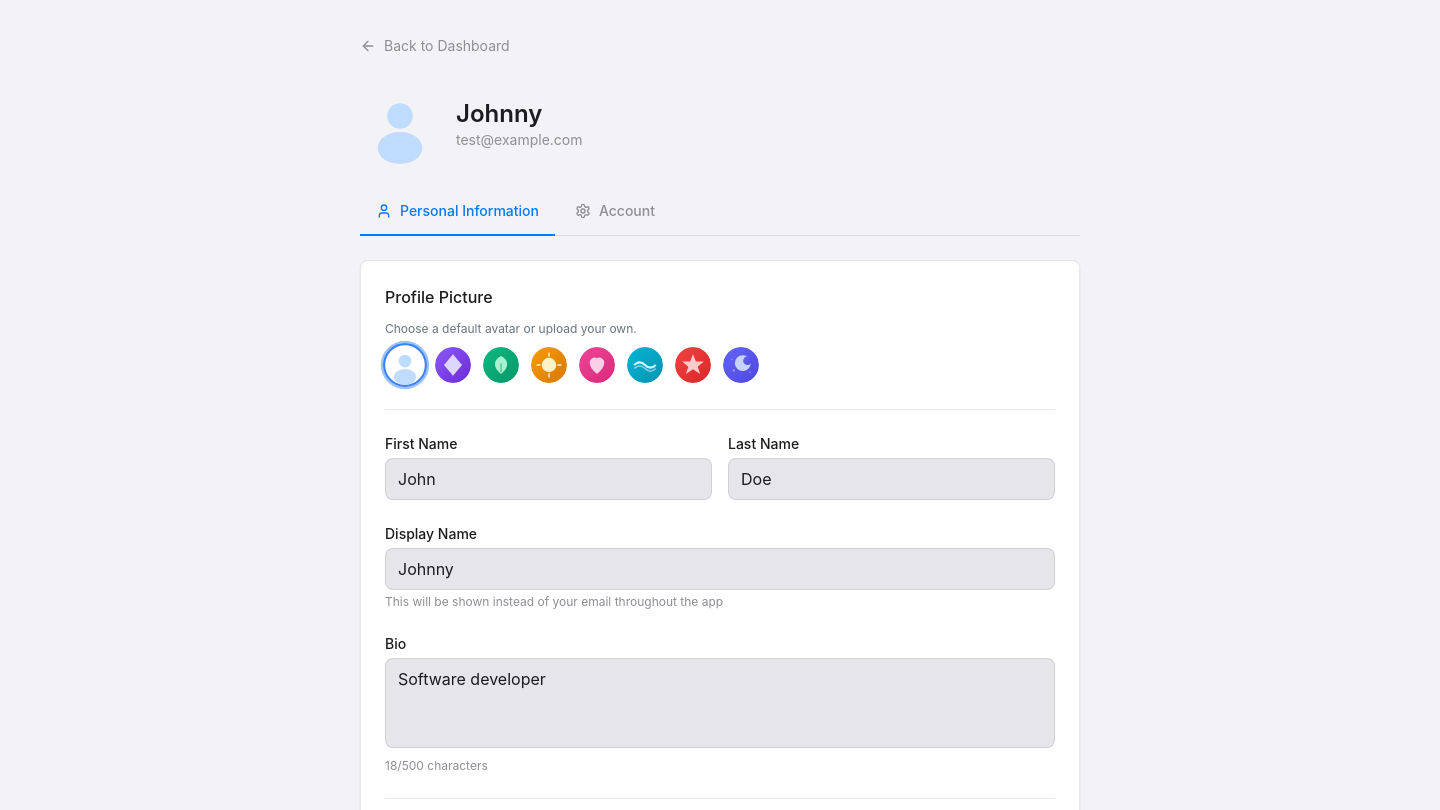
Test: ProfilePage › Change Email Modal › closes email modal when cancel is clicked
What coordinates should you click on to do the following:
click the button "Account"
I would click on:
 (615, 212)
Its box is [559,188,671,236].
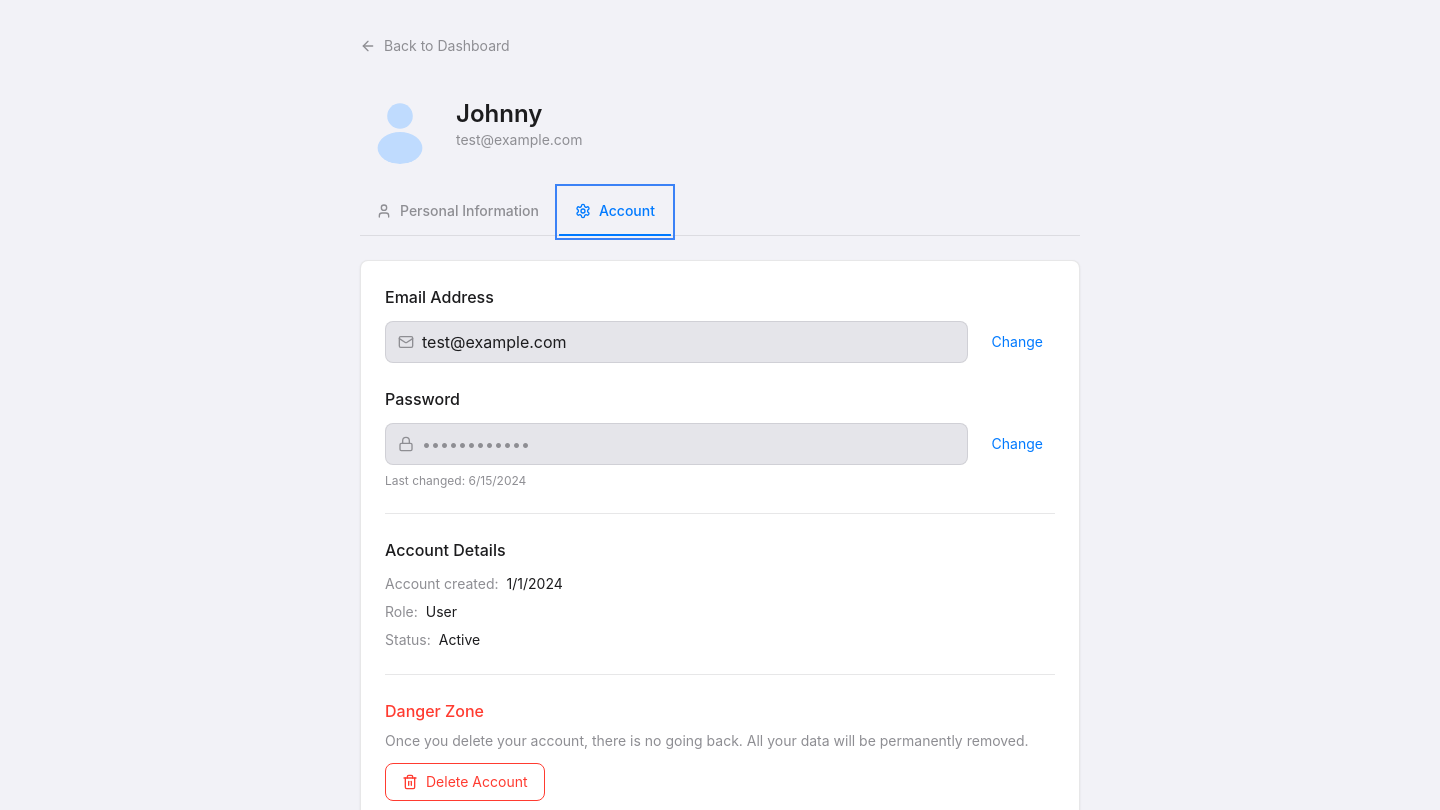
Check: the heading "Email Address" is shown, box [385,287,494,307]
What coordinates should you click on to do the following:
click the 1st button "Change"
I would click on:
 (1017, 342)
Its box is [980,324,1055,360].
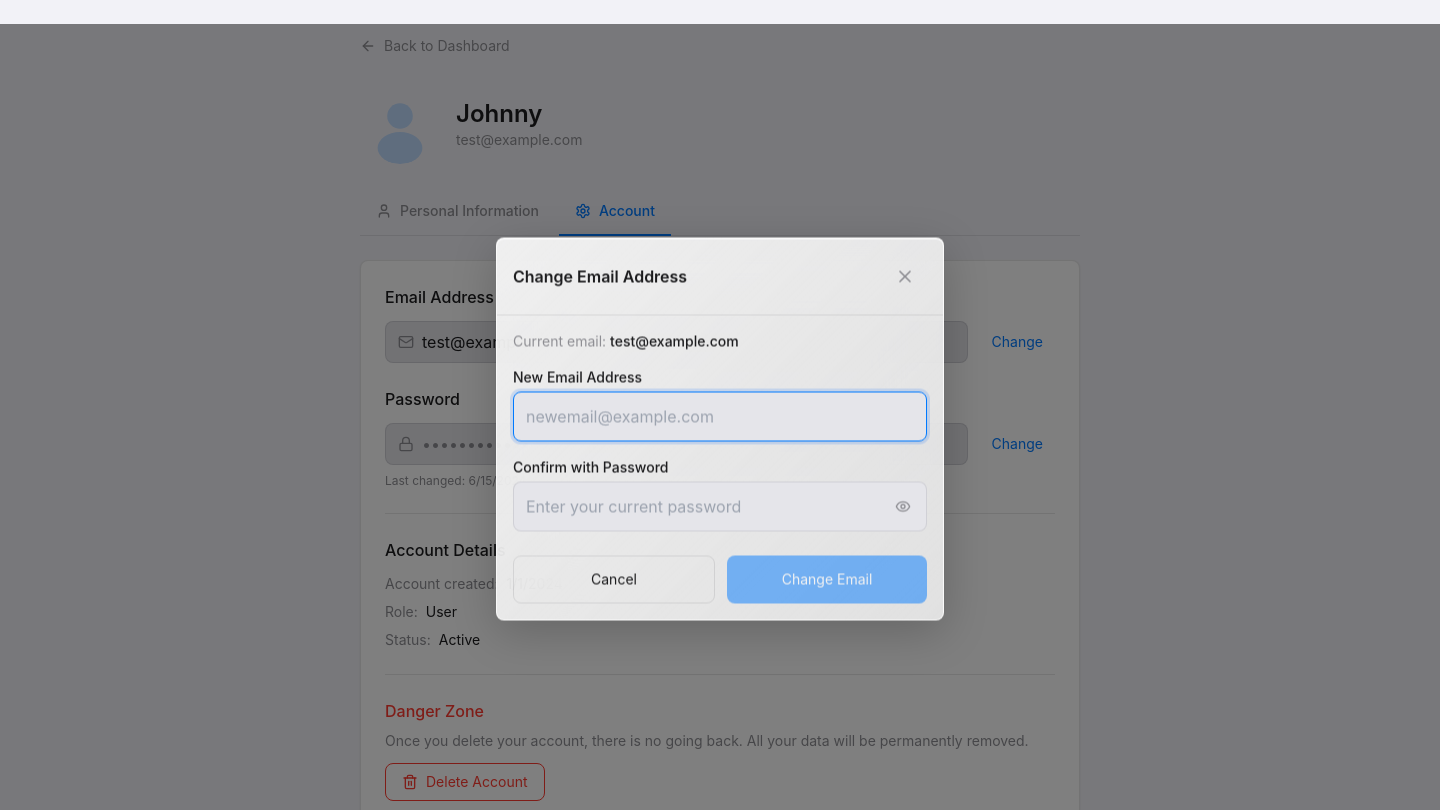
Check: the heading "Change Email Address" is shown, box [513,264,687,288]
What coordinates should you click on to do the following:
click the button "Cancel"
I would click on:
 (614, 580)
Its box is [513,556,715,604].
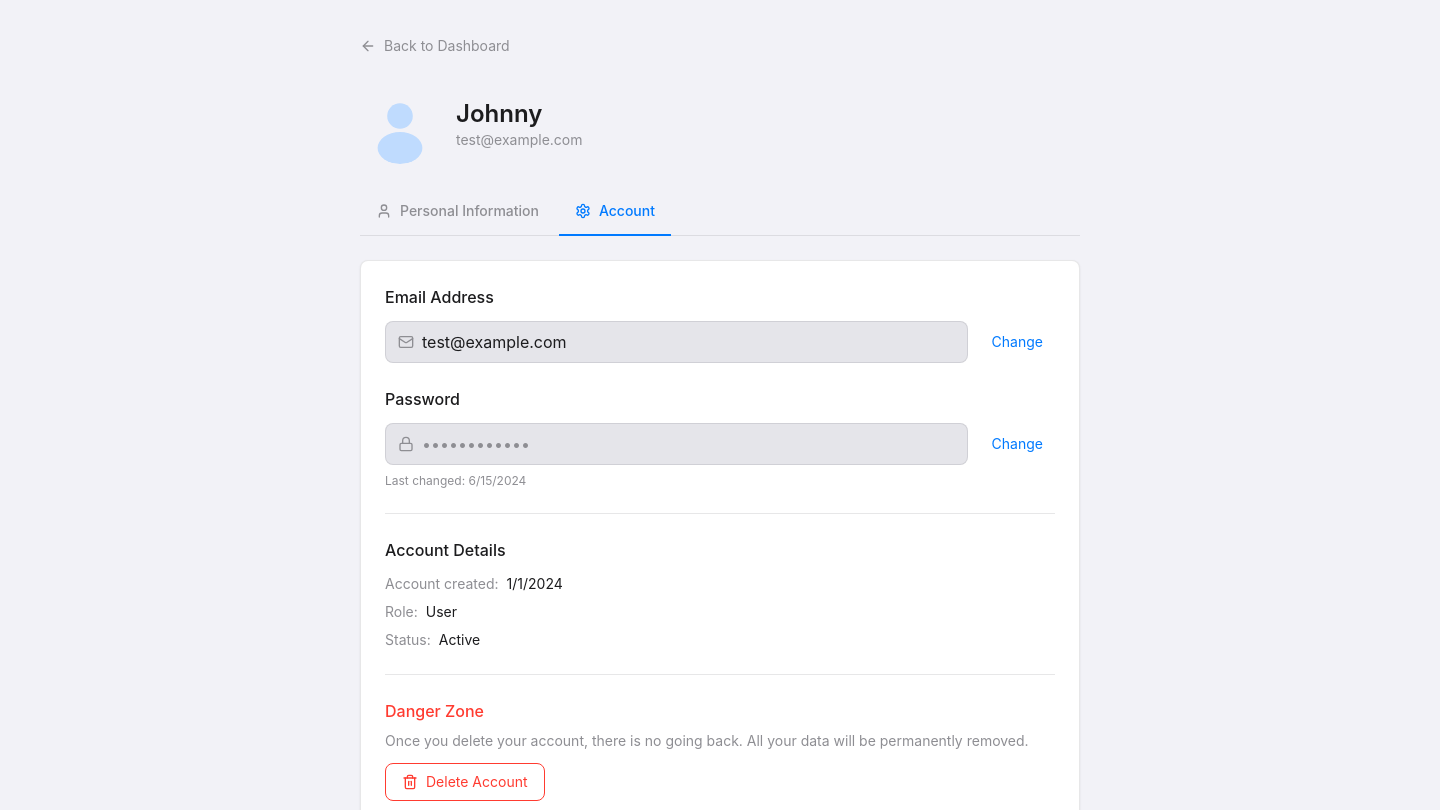
Check: the heading "Change Email Address" is gone
